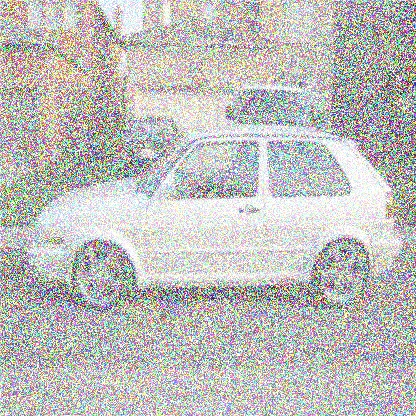Vehicle: (24, 126, 402, 318)
